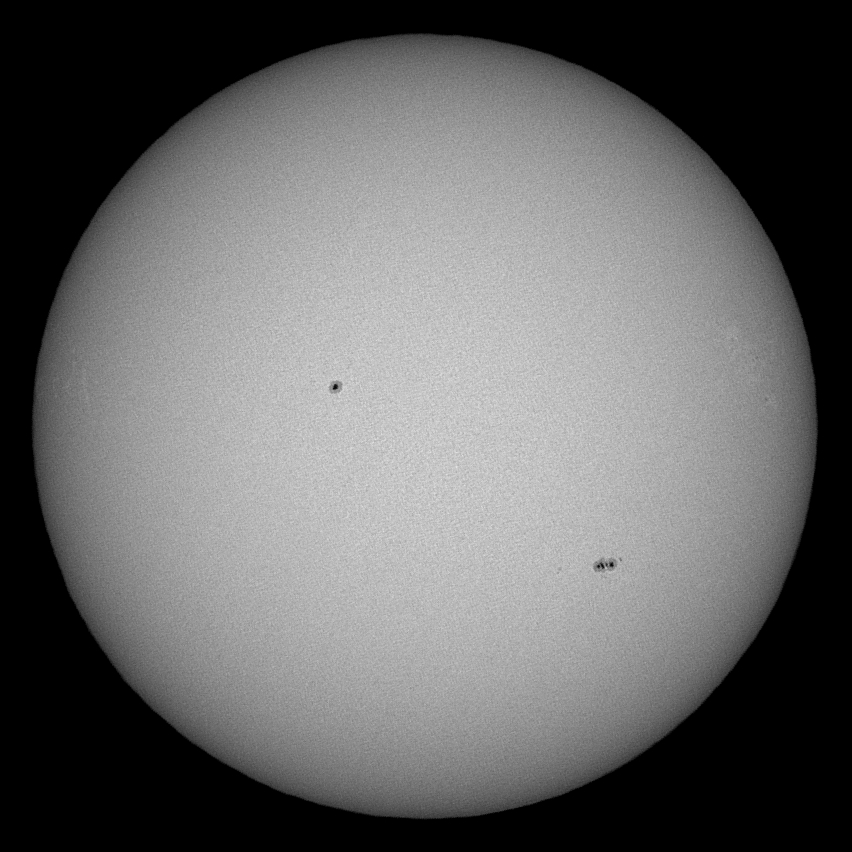sunspot: (589, 553, 624, 577), (325, 377, 346, 397)
